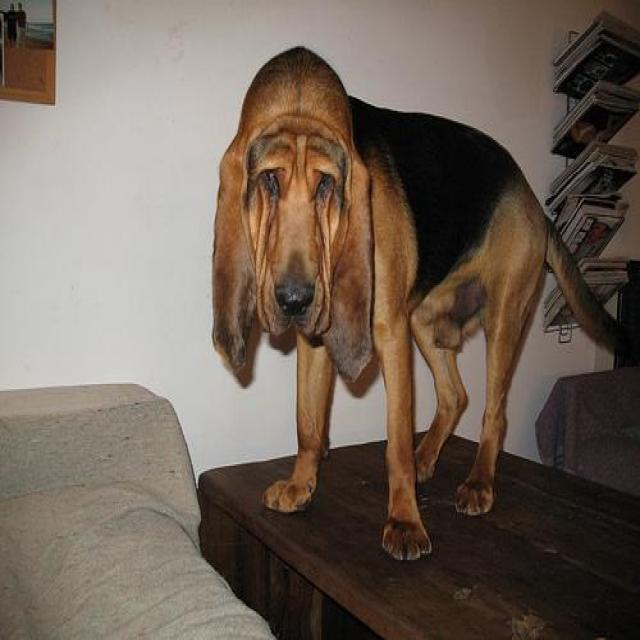bloodhound: (210, 39, 637, 560)
